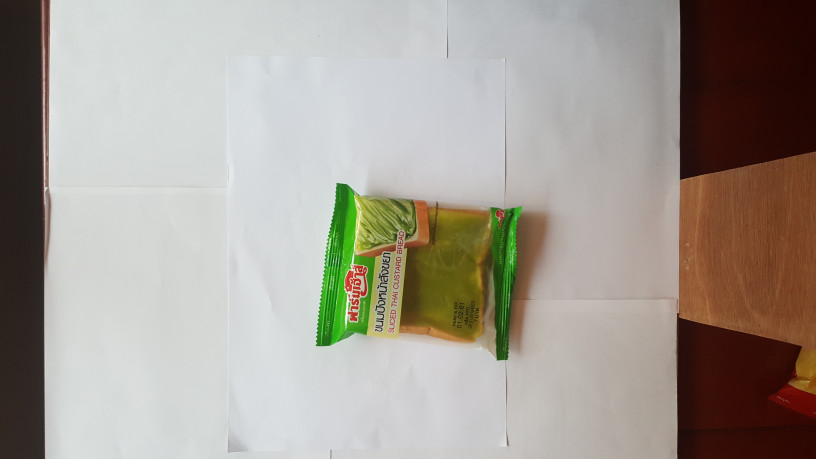farmhouse-bread-pandan: (303, 176, 535, 364)
